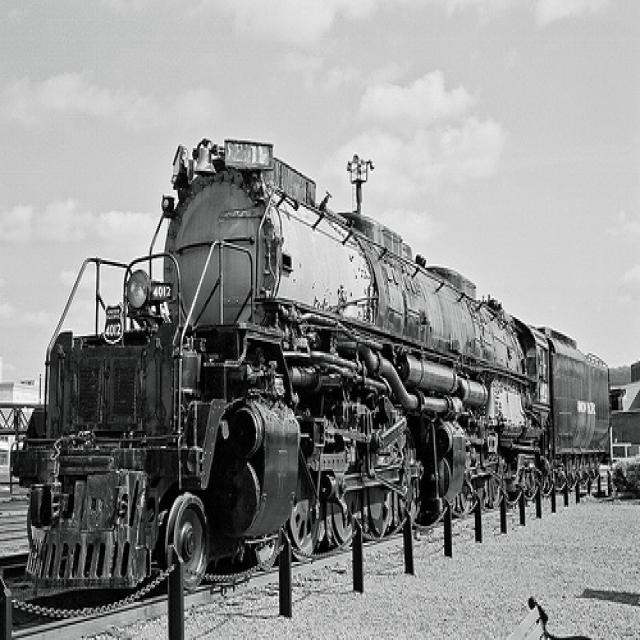train: (17, 139, 614, 600)
